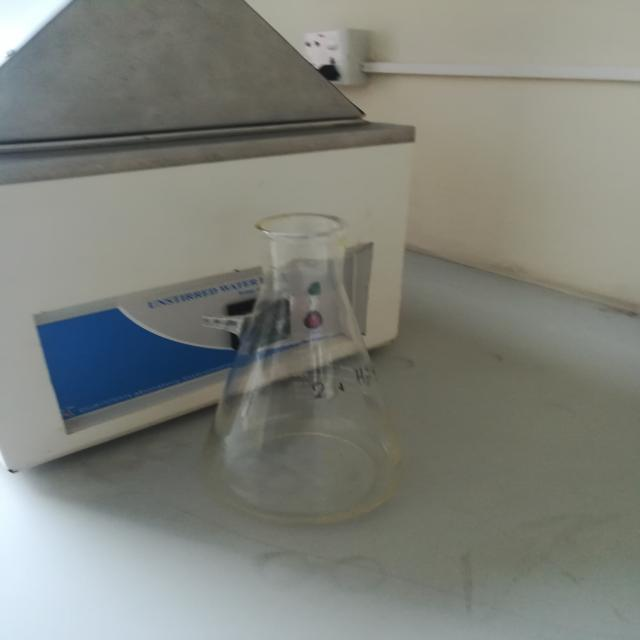Conical_Flask: (170, 152, 449, 558)
